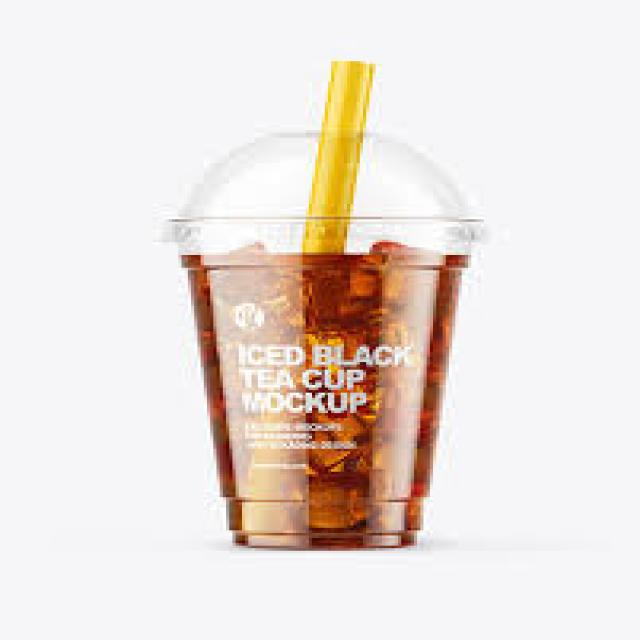bottle: (183, 240, 470, 548)
